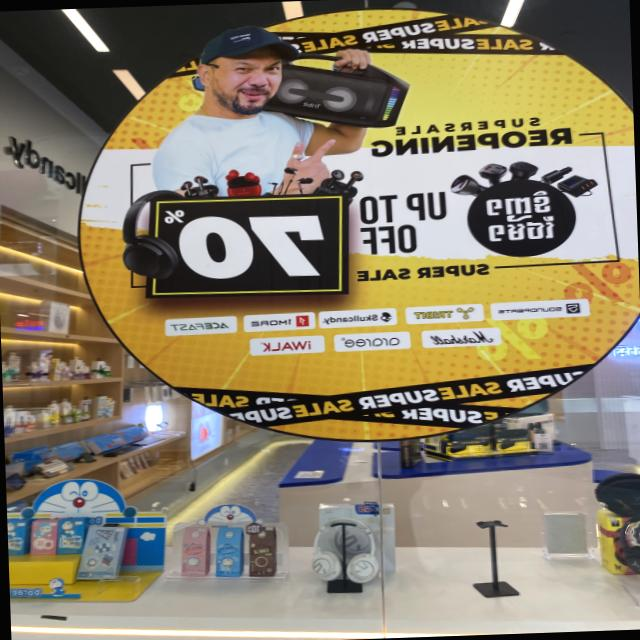826: (164, 208, 334, 283)
Yolov11kh: (479, 189, 554, 226), (484, 213, 558, 242), (163, 208, 186, 224)
